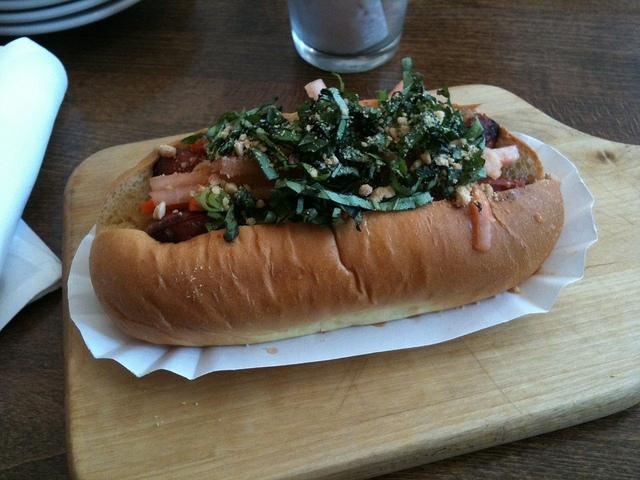onion: (150, 170, 276, 192), (469, 186, 492, 252), (148, 186, 202, 207), (220, 154, 264, 178), (492, 144, 520, 168), (304, 78, 328, 100), (388, 78, 404, 100)
